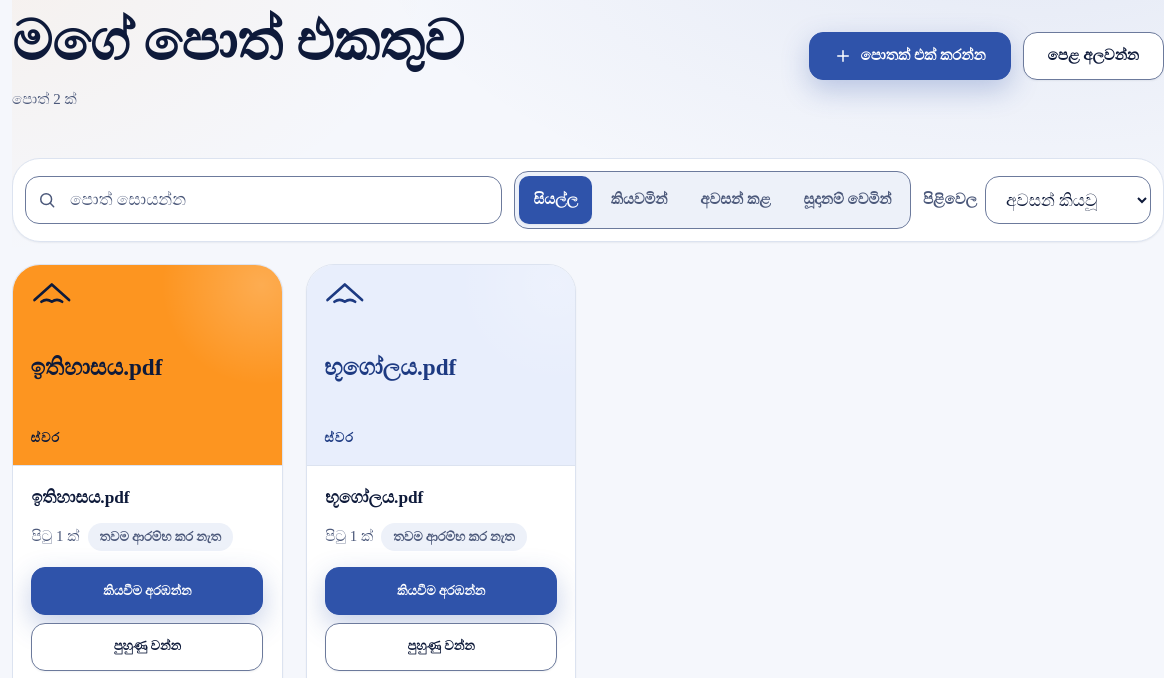
Scenario: the shelf › says how many books match once the reader stops typing
Type "ඉතිහා" into the search field labelled "පොත් සොයන්න" at (264, 200), box x1=25 y1=176 x2=502 y2=224
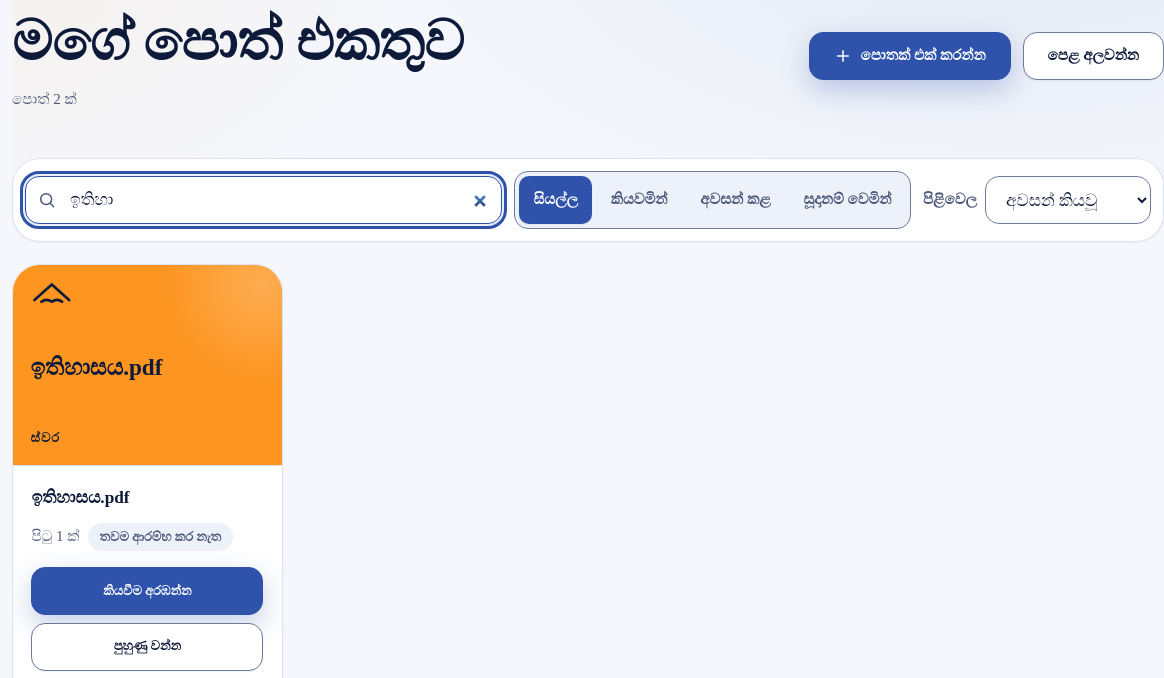
Replace the text in the search field named "පොත් සොයන්න" with "zzzz" at (264, 200), box x1=25 y1=176 x2=502 y2=224
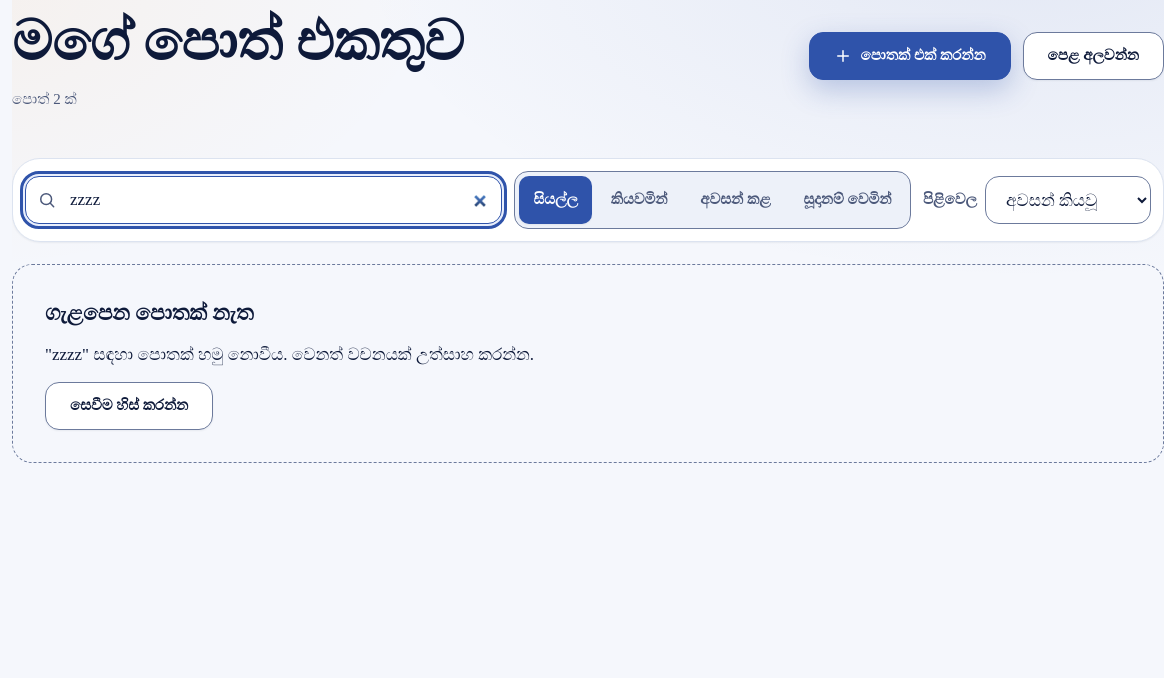
Now the heading "ගැළපෙන පොතක් නැත" is shown, box x1=45 y1=297 x2=254 y2=329
